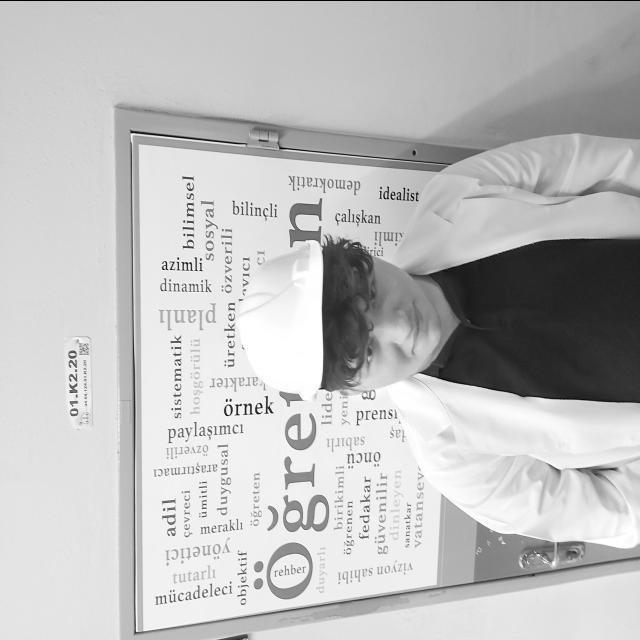safety_helmet: (242, 240, 333, 395)
